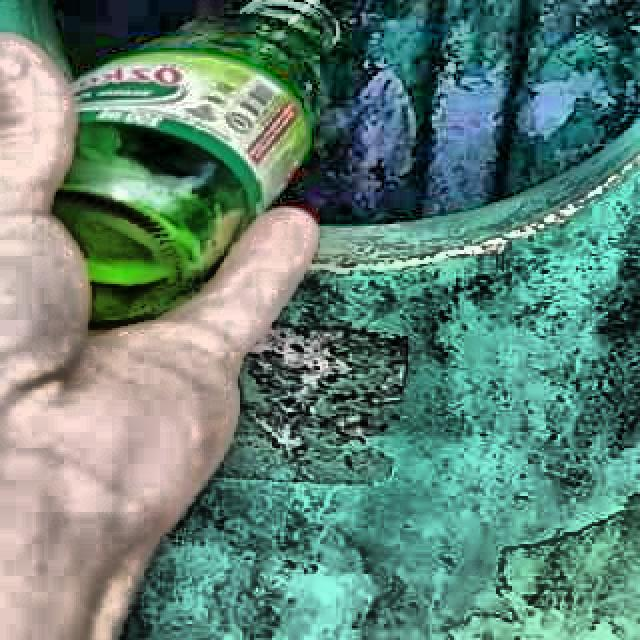glass: (53, 0, 339, 326)
